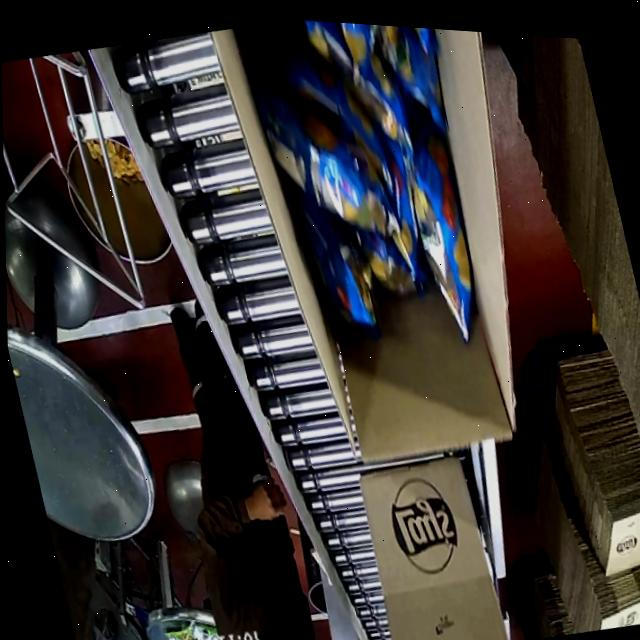PAPRIKA: (241, 16, 524, 390)
